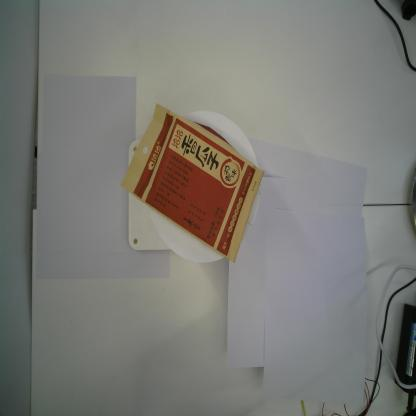Dried Food: (121, 103, 266, 264)
